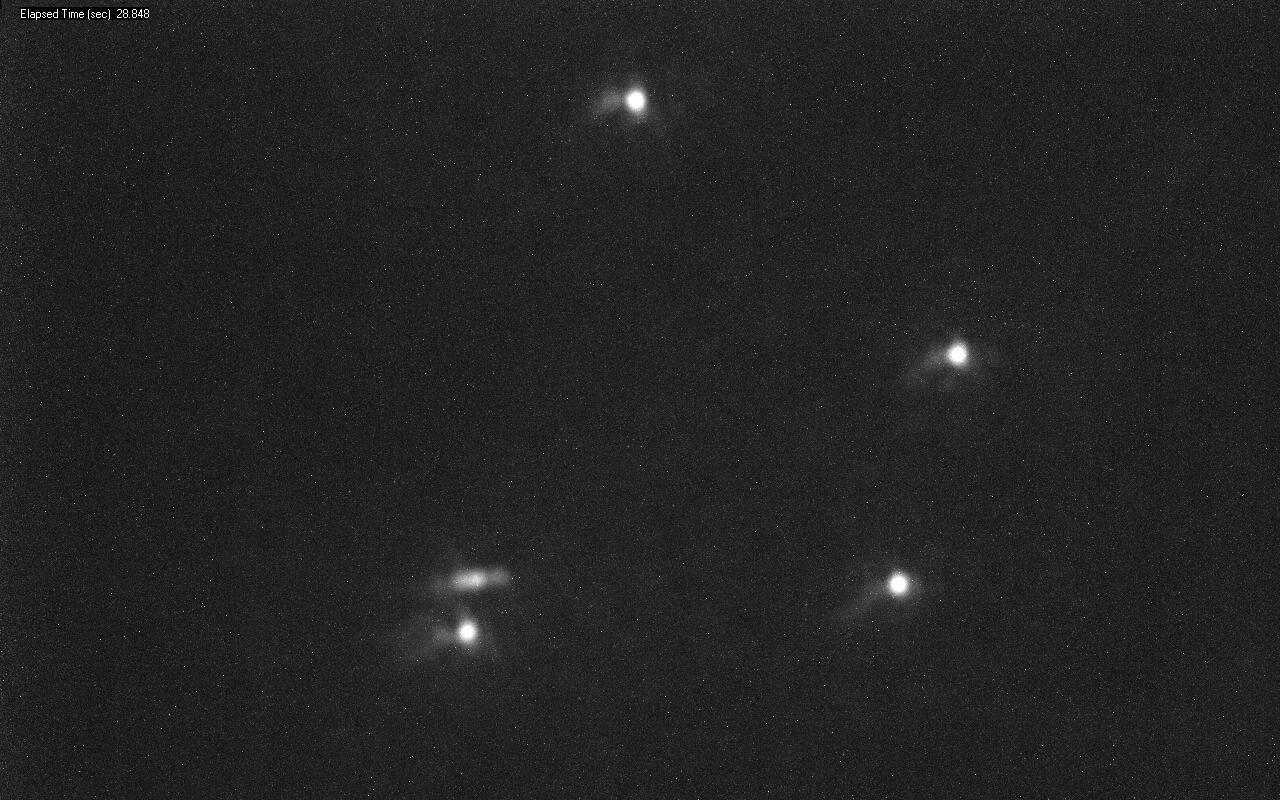Bead: (885, 571, 910, 595), (945, 342, 968, 368), (457, 618, 479, 645), (626, 90, 646, 115)
